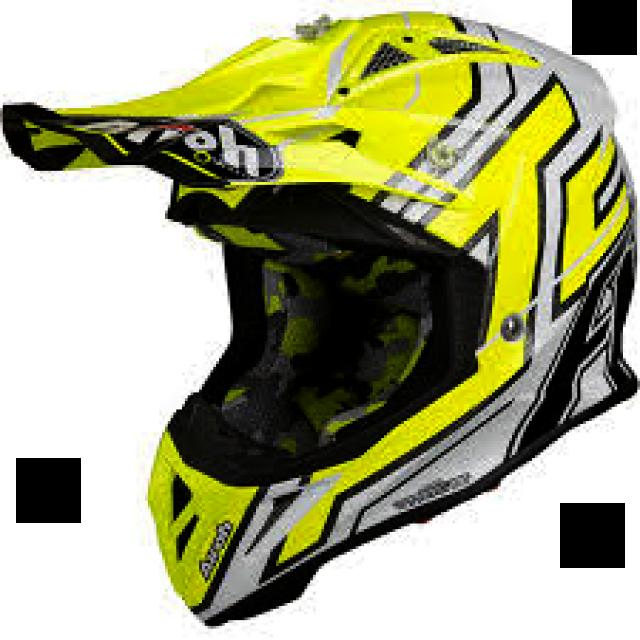Helmet: (4, 12, 636, 623)
